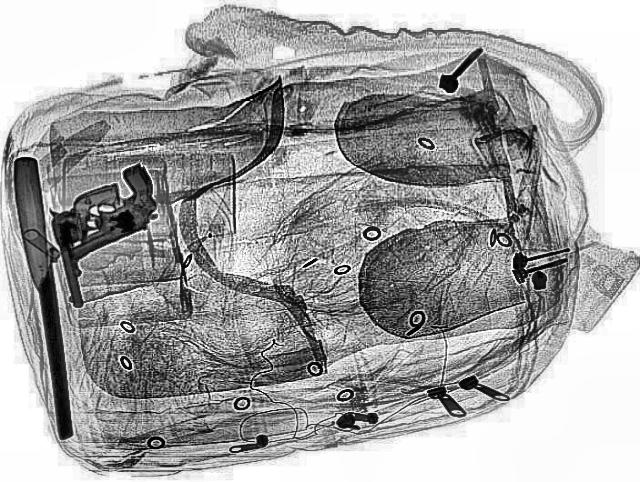Gun: (27, 161, 186, 261), (40, 181, 146, 307)
Knife: (8, 156, 78, 440)
